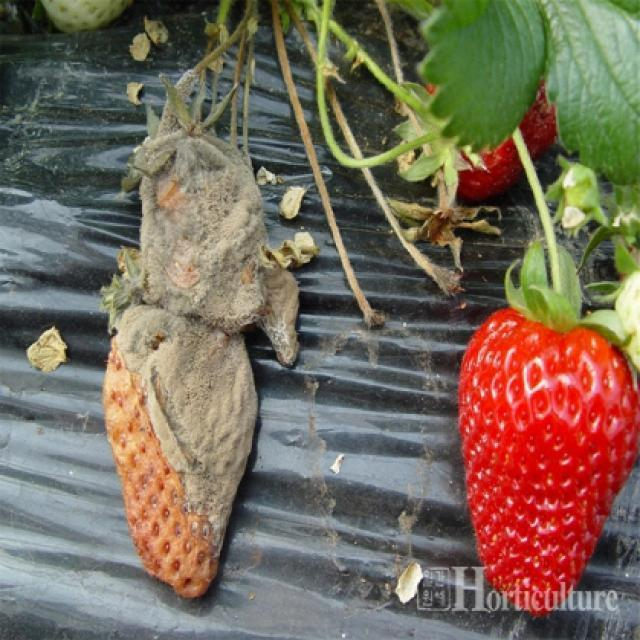Gray Mold: (99, 249, 258, 600), (132, 124, 275, 337), (252, 256, 306, 370)
